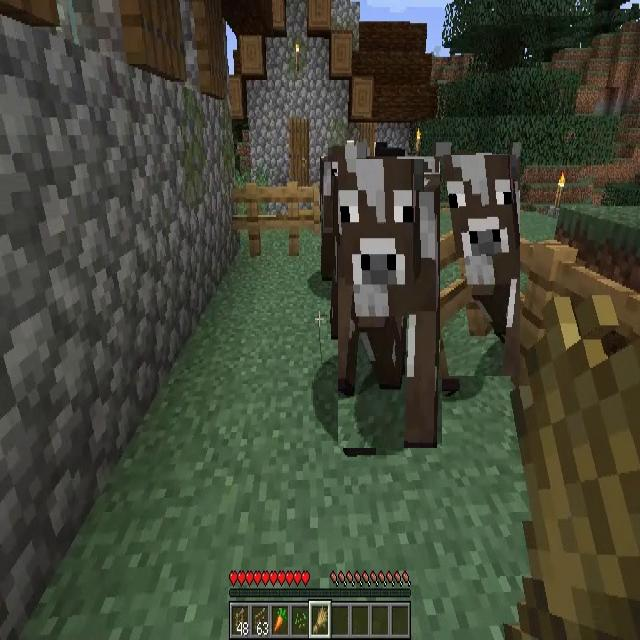cow: (338, 159, 442, 448), (440, 155, 520, 376), (322, 143, 371, 277)
